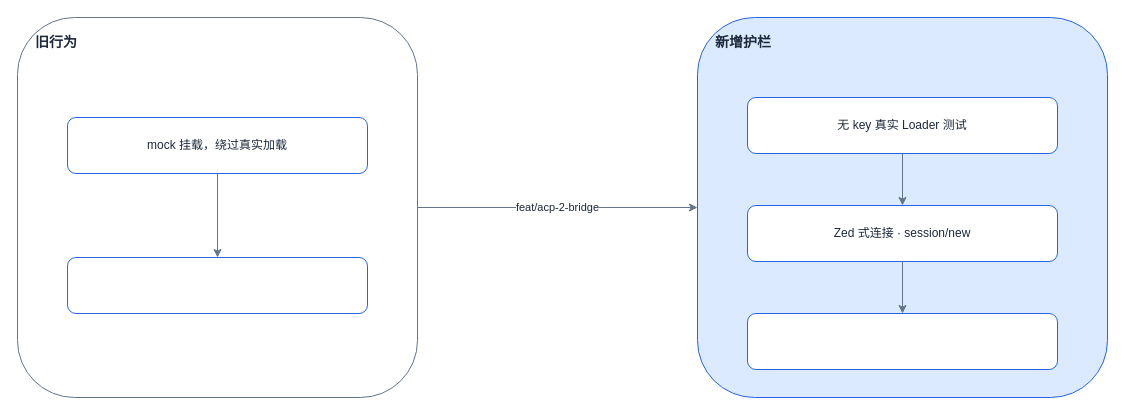
The diagram is 1125 pixels wide and 415 high, and some of its shapes have lost their labels. Here are the shapes that lost their labels. From the top down, the centre of each, then its label:
At point (217, 285): "全绿 ✅".
At point (902, 341): "包级规则约束导出与可选服务访问".
